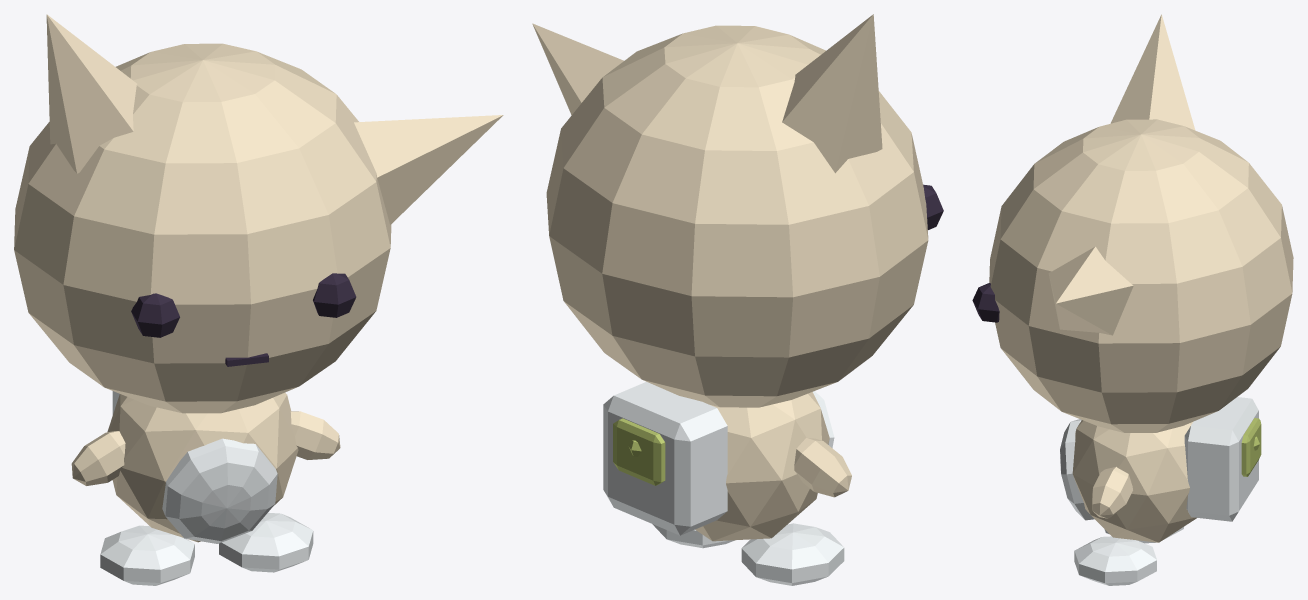
Rendered from biped-medieval-1.glb.
3 renders of one model, left to right at view 1: azimuth 30°, elevation 25°; view 2: azimuth 150°, elevation 25°; view 3: azimuth 270°, elevation 25°, orthographic. The views are drawn at different scales.
Visible parts, largest first — view 1: biped-medieval-1; view 2: biped-medieval-1; view 3: biped-medieval-1.
Boxes of the visible parts, box(x1,y1,x2,y2) form: biped-medieval-1: box(14, 14, 503, 585); biped-medieval-1: box(532, 14, 943, 585); biped-medieval-1: box(972, 14, 1293, 585).
Bounding box in the file's own units: 0.6757 × 0.9 × 0.5389.
